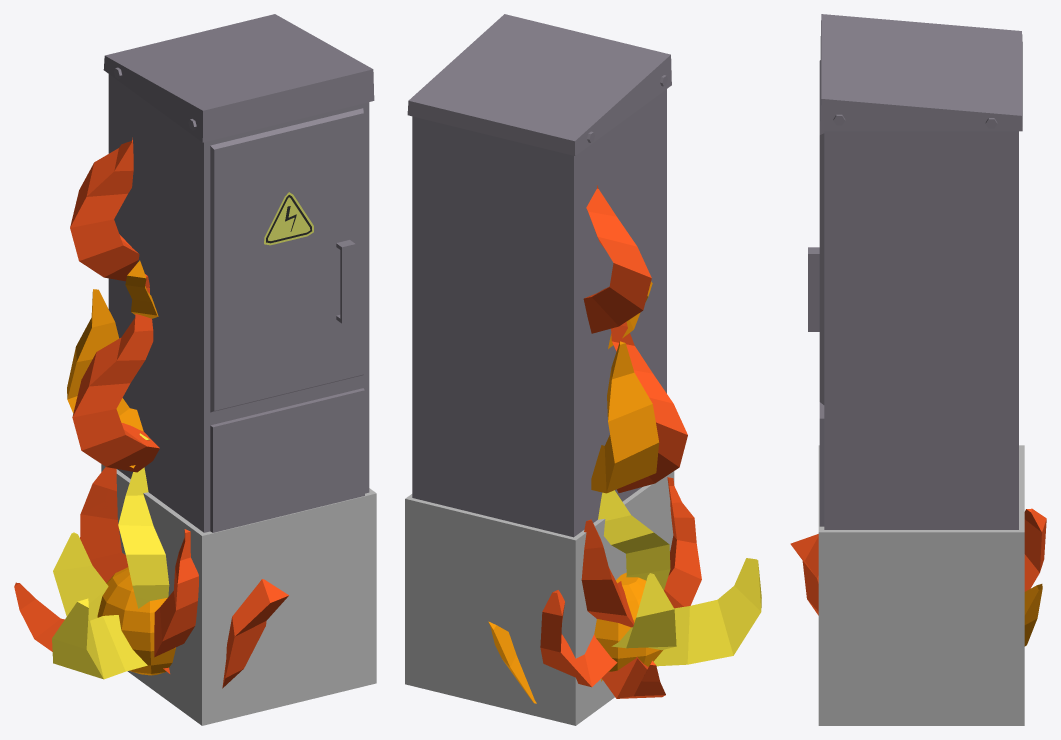
The model's file is co2_fire.glb.
3 renders of one model, left to right at view 1: azimuth 30°, elevation 25°; view 2: azimuth 150°, elevation 25°; view 3: azimuth 270°, elevation 25°, orthographic. The views are drawn at different scales.
Parts seen in each view (by area): view 1: PowerBox, group167038055, group167038055.001, group1012330263, group1602184737, group740134887, group1374064128, group1190332235, group813435182, group1762201146, group300155229, group1624860735 (+1 smaller); view 2: PowerBox, group1762201146, group1012330263, group167038055.001, group1602184737, group167038055, group1501086520, group1190332235, group740134887, group300155229, group1374064128, group1624860735 (+1 smaller); view 3: PowerBox, group1501086520, group813435182, group1746021426.
Boxes of the visible parts, left/top/right/bottom form: PowerBox: left=101, top=14, right=376, bottom=725; group167038055: left=72, top=274, right=159, bottom=472; group167038055.001: left=70, top=137, right=139, bottom=281; group1012330263: left=52, top=598, right=147, bottom=679; group1602184737: left=118, top=433, right=169, bottom=608; group740134887: left=80, top=467, right=128, bottom=582; group1374064128: left=97, top=567, right=175, bottom=675; group1190332235: left=154, top=529, right=198, bottom=657; group813435182: left=163, top=579, right=288, bottom=688; group1762201146: left=67, top=289, right=143, bottom=468; group300155229: left=53, top=532, right=108, bottom=620; group1624860735: left=14, top=582, right=64, bottom=651; PowerBox: left=405, top=14, right=674, bottom=725; group1762201146: left=591, top=341, right=659, bottom=493; group1012330263: left=653, top=558, right=761, bottom=666; group167038055.001: left=583, top=185, right=651, bottom=333; group1602184737: left=598, top=490, right=670, bottom=590; group167038055: left=611, top=321, right=687, bottom=492; group1501086520: left=540, top=590, right=617, bottom=687; group1190332235: left=664, top=477, right=701, bottom=608; group740134887: left=581, top=519, right=634, bottom=627; group300155229: left=611, top=573, right=676, bottom=650; group1374064128: left=594, top=572, right=662, bottom=671; group1624860735: left=601, top=657, right=665, bottom=698; PowerBox: left=808, top=14, right=1024, bottom=725; group1501086520: left=1024, top=508, right=1046, bottom=591; group813435182: left=790, top=534, right=818, bottom=615; group1746021426: left=1024, top=584, right=1042, bottom=646.
Size of the model in its own units: 0.4381 by 0.8762 by 0.3234.
